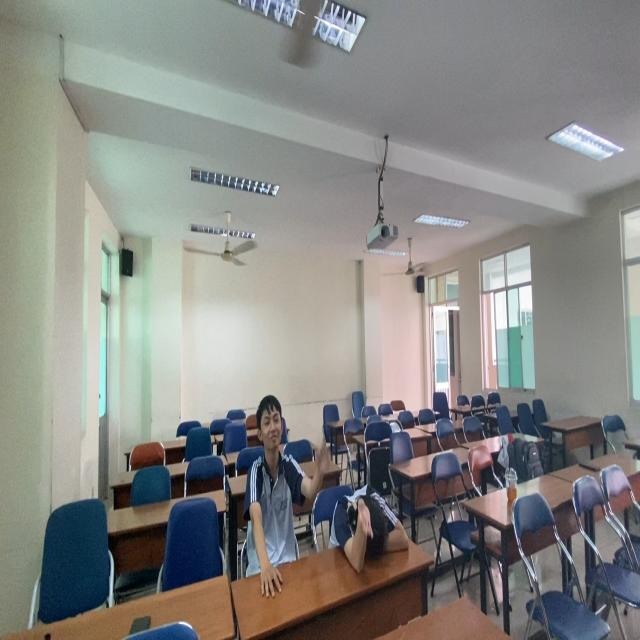sleep: (325, 480, 419, 576)
